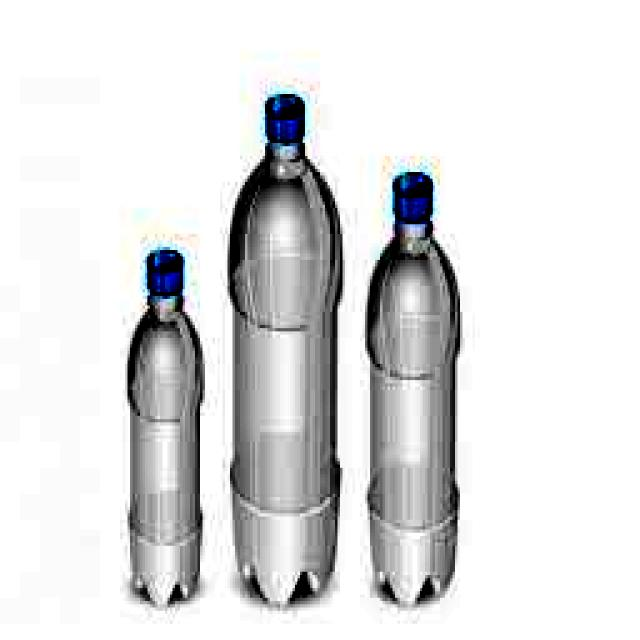Plastic: (225, 92, 344, 602), (360, 170, 464, 604), (123, 247, 204, 608)
